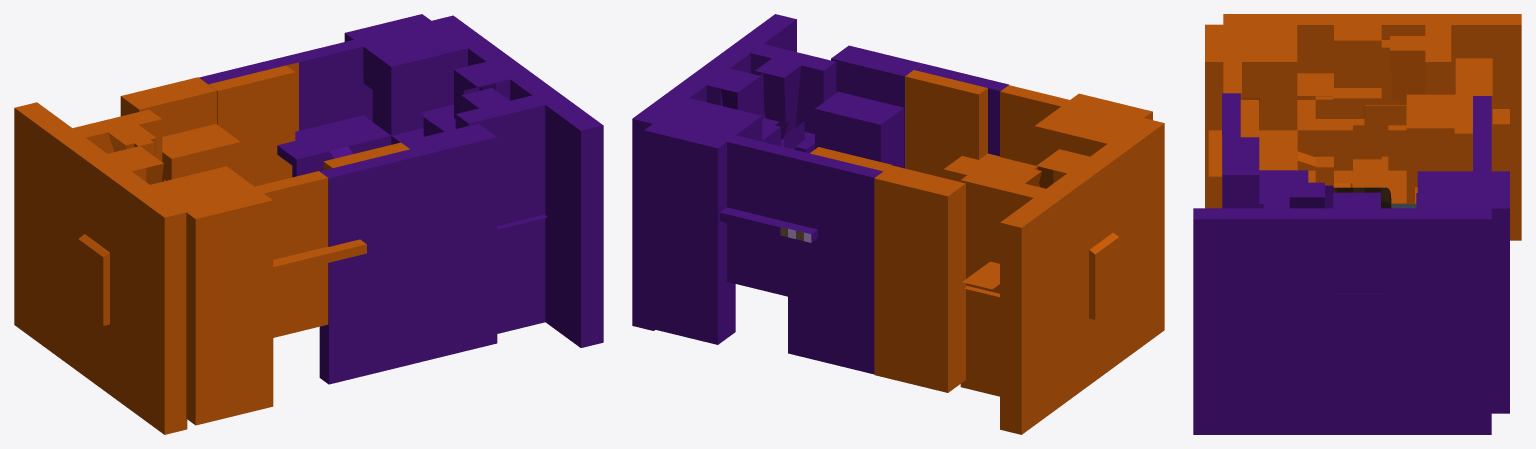
Rendered from TwoTowers V2.glb.
The picture shows the model from 3 angles, left to right: view 1: azimuth 30°, elevation 25°; view 2: azimuth 150°, elevation 25°; view 3: azimuth 270°, elevation 25°; orthographic projection. The views are drawn at different scales.
Visible parts, largest first — view 1: Plane.081; view 2: Plane.081; view 3: Plane.081.
Boxes of the visible parts, x1,y1,x2,y2 form: Plane.081: (14, 14, 603, 434); Plane.081: (632, 14, 1164, 434); Plane.081: (1193, 14, 1521, 434).
Size of the model in its own units: 296 by 142 by 196.
Materials: 1 (1 with a texture image).
